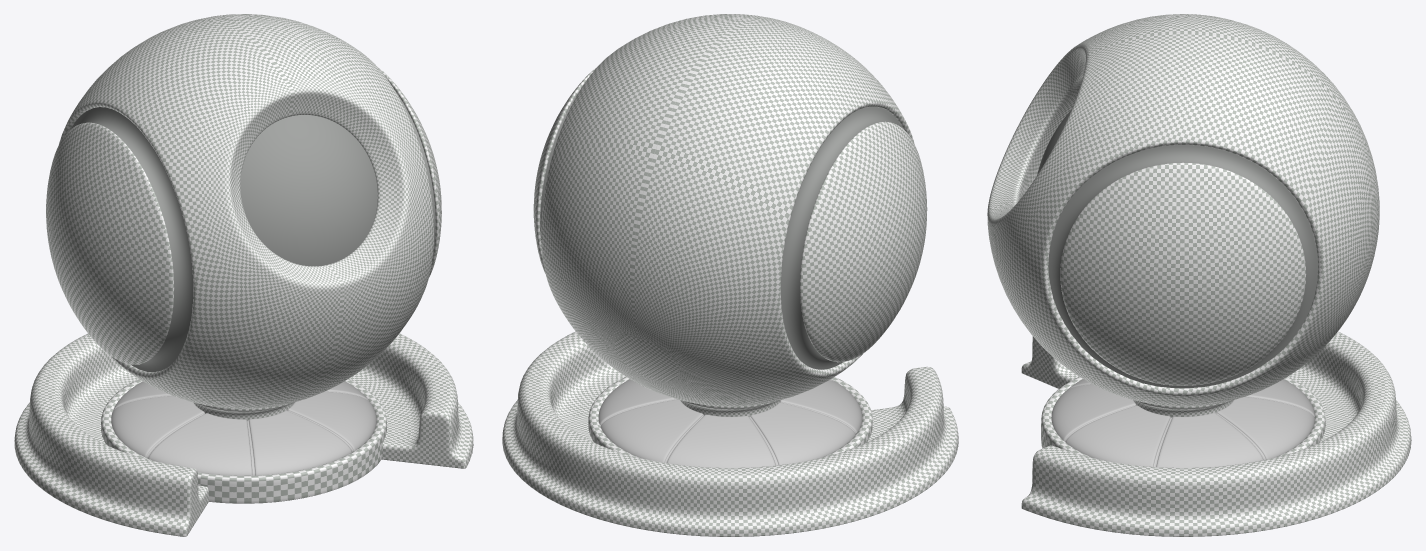
The model's file is shaderBall.fbx.
The picture shows the model from 3 angles, left to right: view 1: azimuth 30°, elevation 25°; view 2: azimuth 150°, elevation 25°; view 3: azimuth 270°, elevation 25°; orthographic projection.
Visible parts, largest first — view 1: MaterialSphere, MaterialBase, Cushion, GrayBackground, MaterialBaseInside, GrayInlay; view 2: MaterialSphere, MaterialBase, Cushion, GrayInlay, MaterialBaseInside; view 3: MaterialSphere, MaterialBase, Cushion, GrayInlay, MaterialBaseInside.
Boxes of the visible parts, x1,y1,x2,y2 form: MaterialSphere: (46, 14, 441, 408); MaterialBase: (14, 333, 473, 536); Cushion: (111, 381, 376, 475); GrayBackground: (240, 115, 377, 266); MaterialBaseInside: (101, 379, 386, 503); GrayInlay: (71, 91, 435, 372); MaterialSphere: (533, 14, 927, 406); MaterialBase: (502, 331, 958, 536); Cushion: (598, 379, 862, 467); GrayInlay: (540, 92, 901, 369); MaterialBaseInside: (588, 377, 872, 457); MaterialSphere: (987, 14, 1379, 406); MaterialBase: (1021, 331, 1411, 536); Cushion: (1051, 379, 1315, 467); GrayInlay: (1048, 145, 1317, 388); MaterialBaseInside: (1041, 377, 1325, 457).
Bounding box in the file's own units: 269 × 266 × 250.
